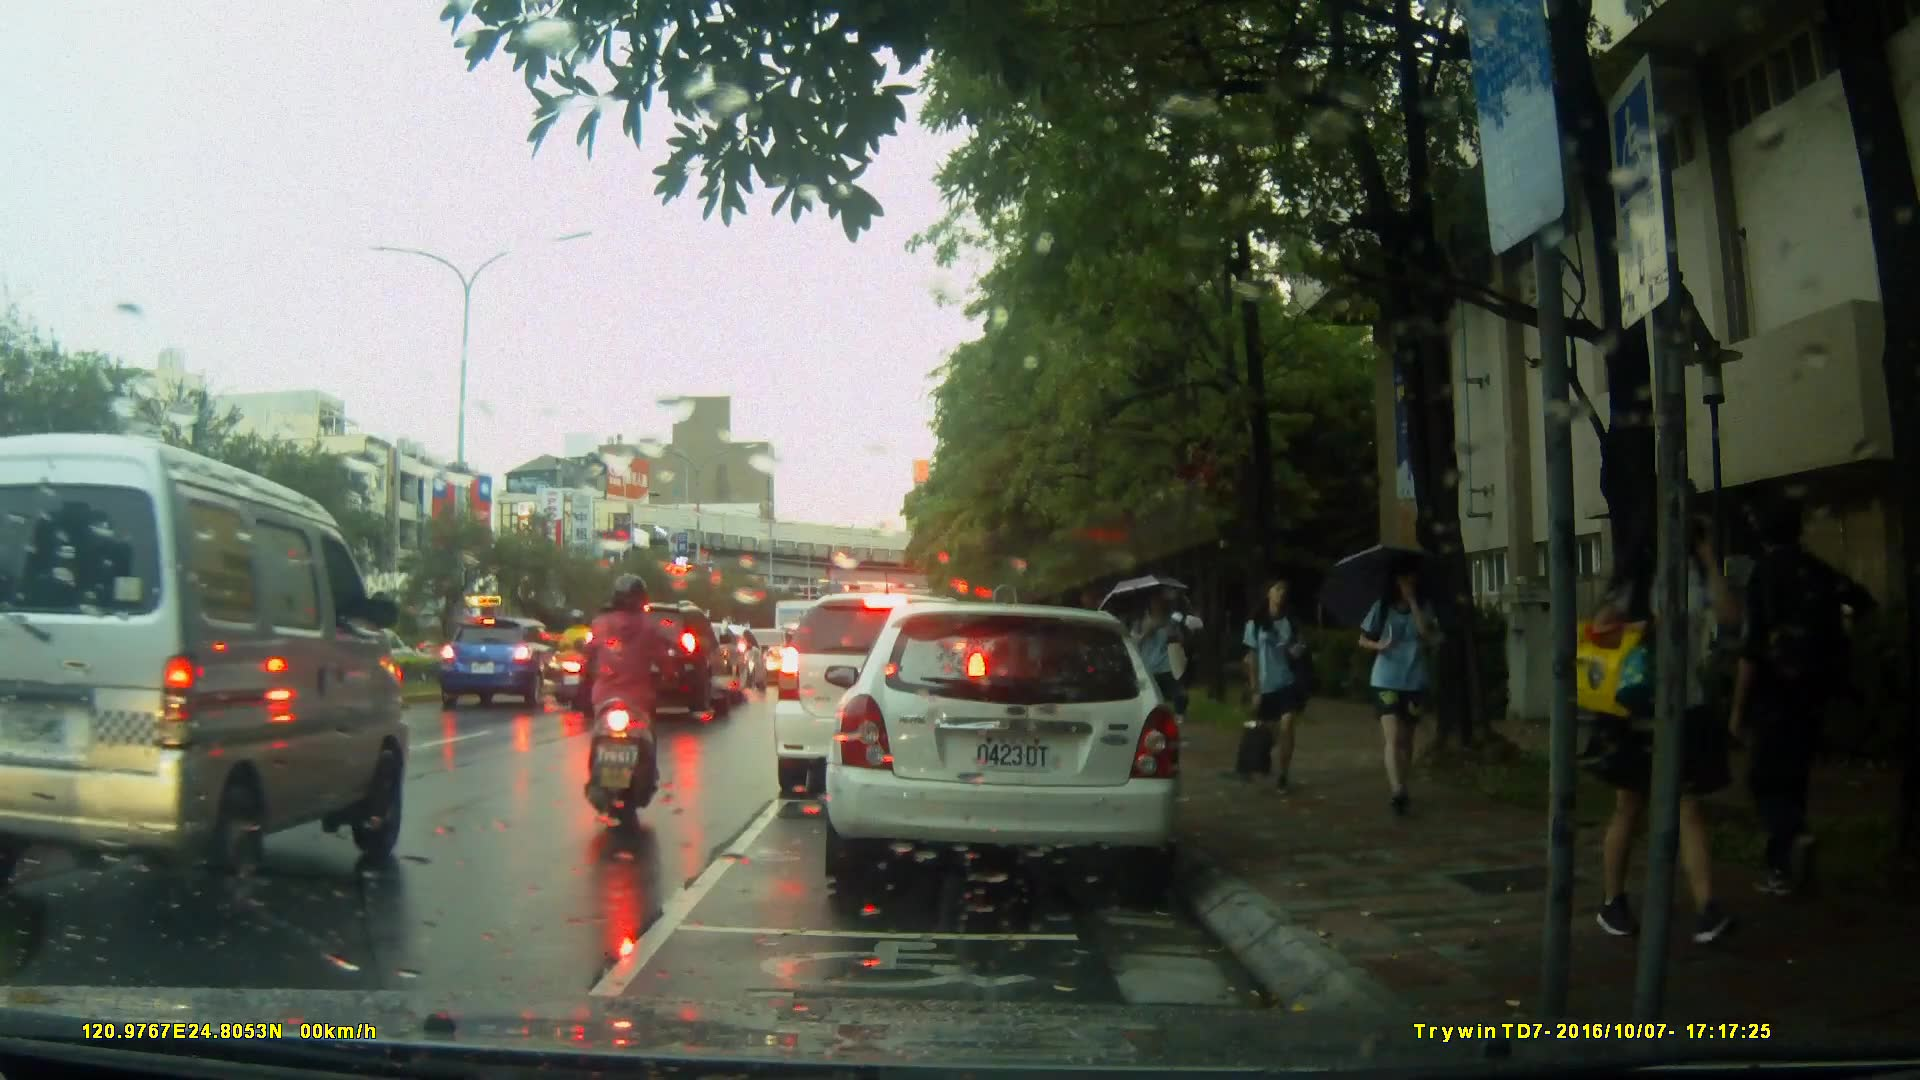pedestrian: (1604, 462, 1743, 945), (1738, 493, 1850, 913), (1344, 549, 1444, 818), (1226, 569, 1309, 793), (1131, 588, 1192, 737)
rider: (572, 568, 664, 826), (559, 607, 599, 701)
vehicle: (2, 428, 411, 933), (815, 593, 1204, 909), (771, 590, 994, 802), (574, 602, 736, 725), (438, 617, 577, 709)
